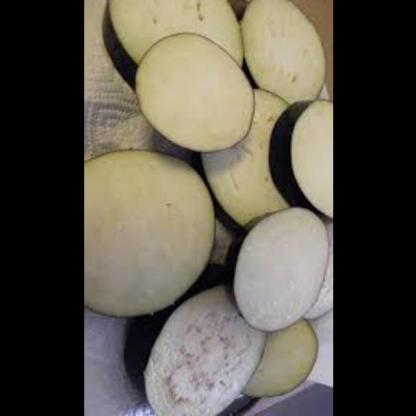eggplant: (88, 144, 214, 325), (133, 273, 270, 416), (188, 81, 302, 236), (139, 32, 258, 150), (223, 210, 331, 340), (104, 0, 246, 94), (239, 0, 333, 109), (266, 93, 333, 235), (240, 316, 324, 405)
